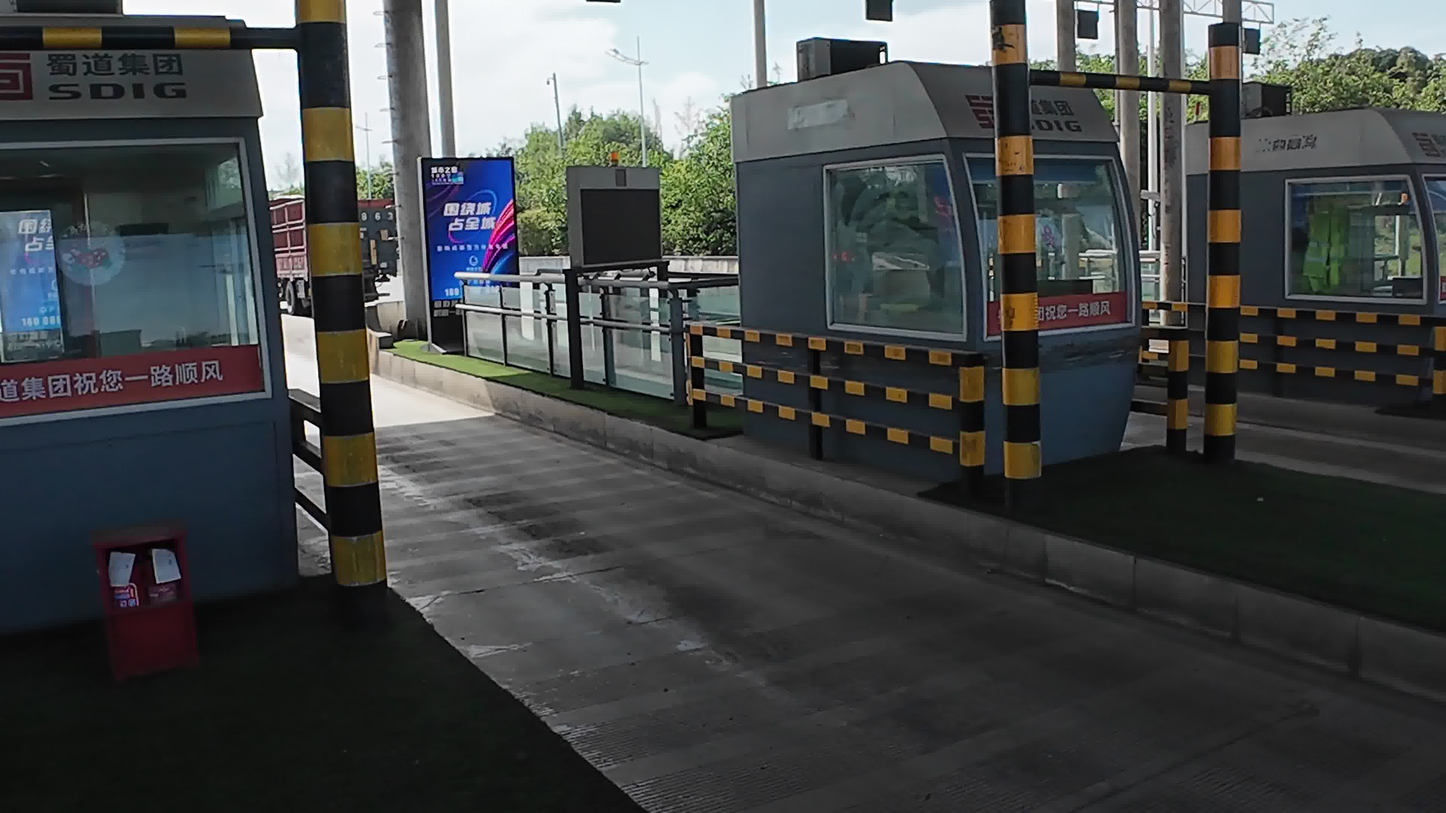fire_box: (96, 532, 193, 669)
led_screen: (426, 158, 519, 351), (552, 153, 661, 273)
roadside_plant: (664, 104, 725, 240), (516, 131, 554, 255)
toll_booth: (703, 35, 1117, 480), (0, 19, 264, 666), (1185, 100, 1446, 434)
